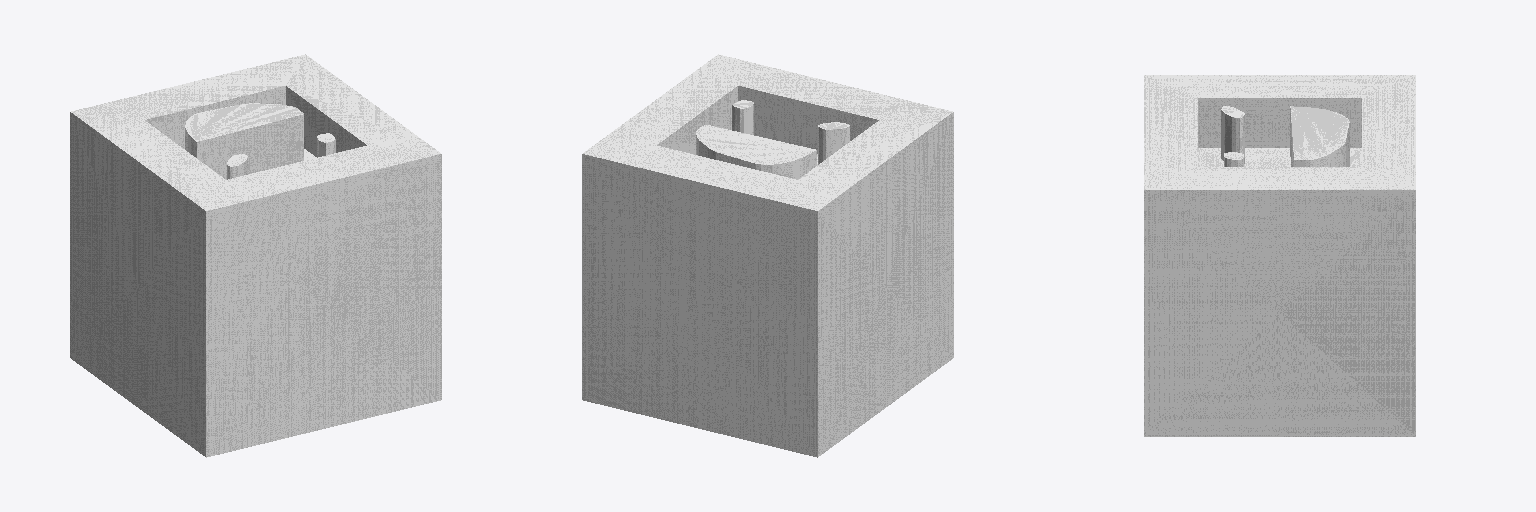
Rendered from face_block.obj.
3 renders of one model, left to right at view 1: azimuth 30°, elevation 25°; view 2: azimuth 150°, elevation 25°; view 3: azimuth 270°, elevation 25°, orthographic.
Visible parts, largest first — view 1: Mesh1 Model; view 2: Mesh1 Model; view 3: Mesh1 Model.
Part boxes in pixels (x1,y1,x2,y2): Mesh1 Model: (70,54,441,457); Mesh1 Model: (582,54,953,457); Mesh1 Model: (1144,75,1415,436).
Bounding box in the file's own units: 1 × 1 × 1.